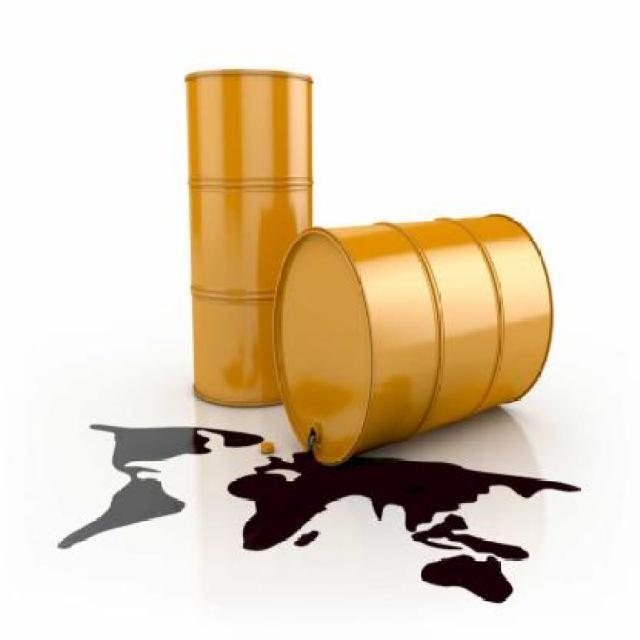spillage: (226, 453, 581, 604), (68, 424, 274, 549)
